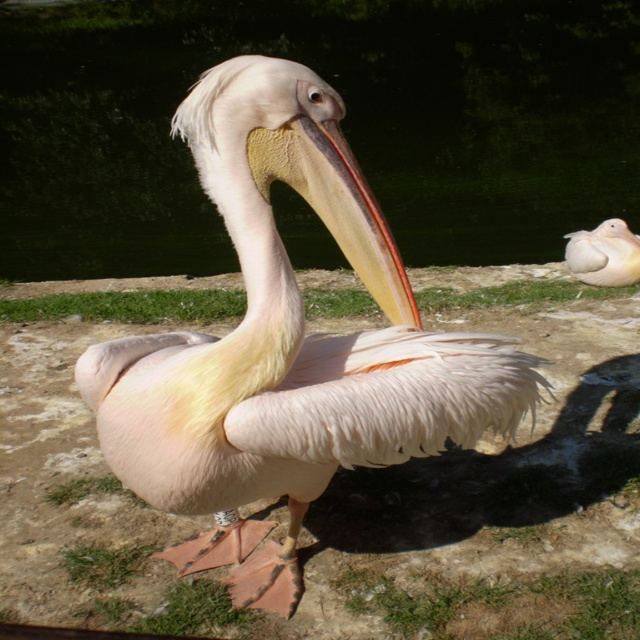Goose: (69, 54, 559, 628), (561, 220, 638, 284)
